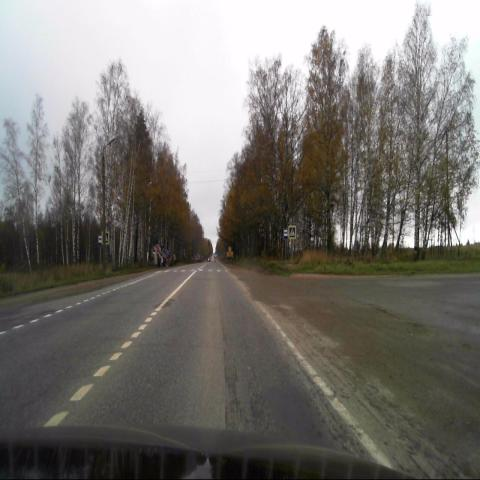5_19_1: (288, 224, 296, 238), (102, 230, 109, 244)
